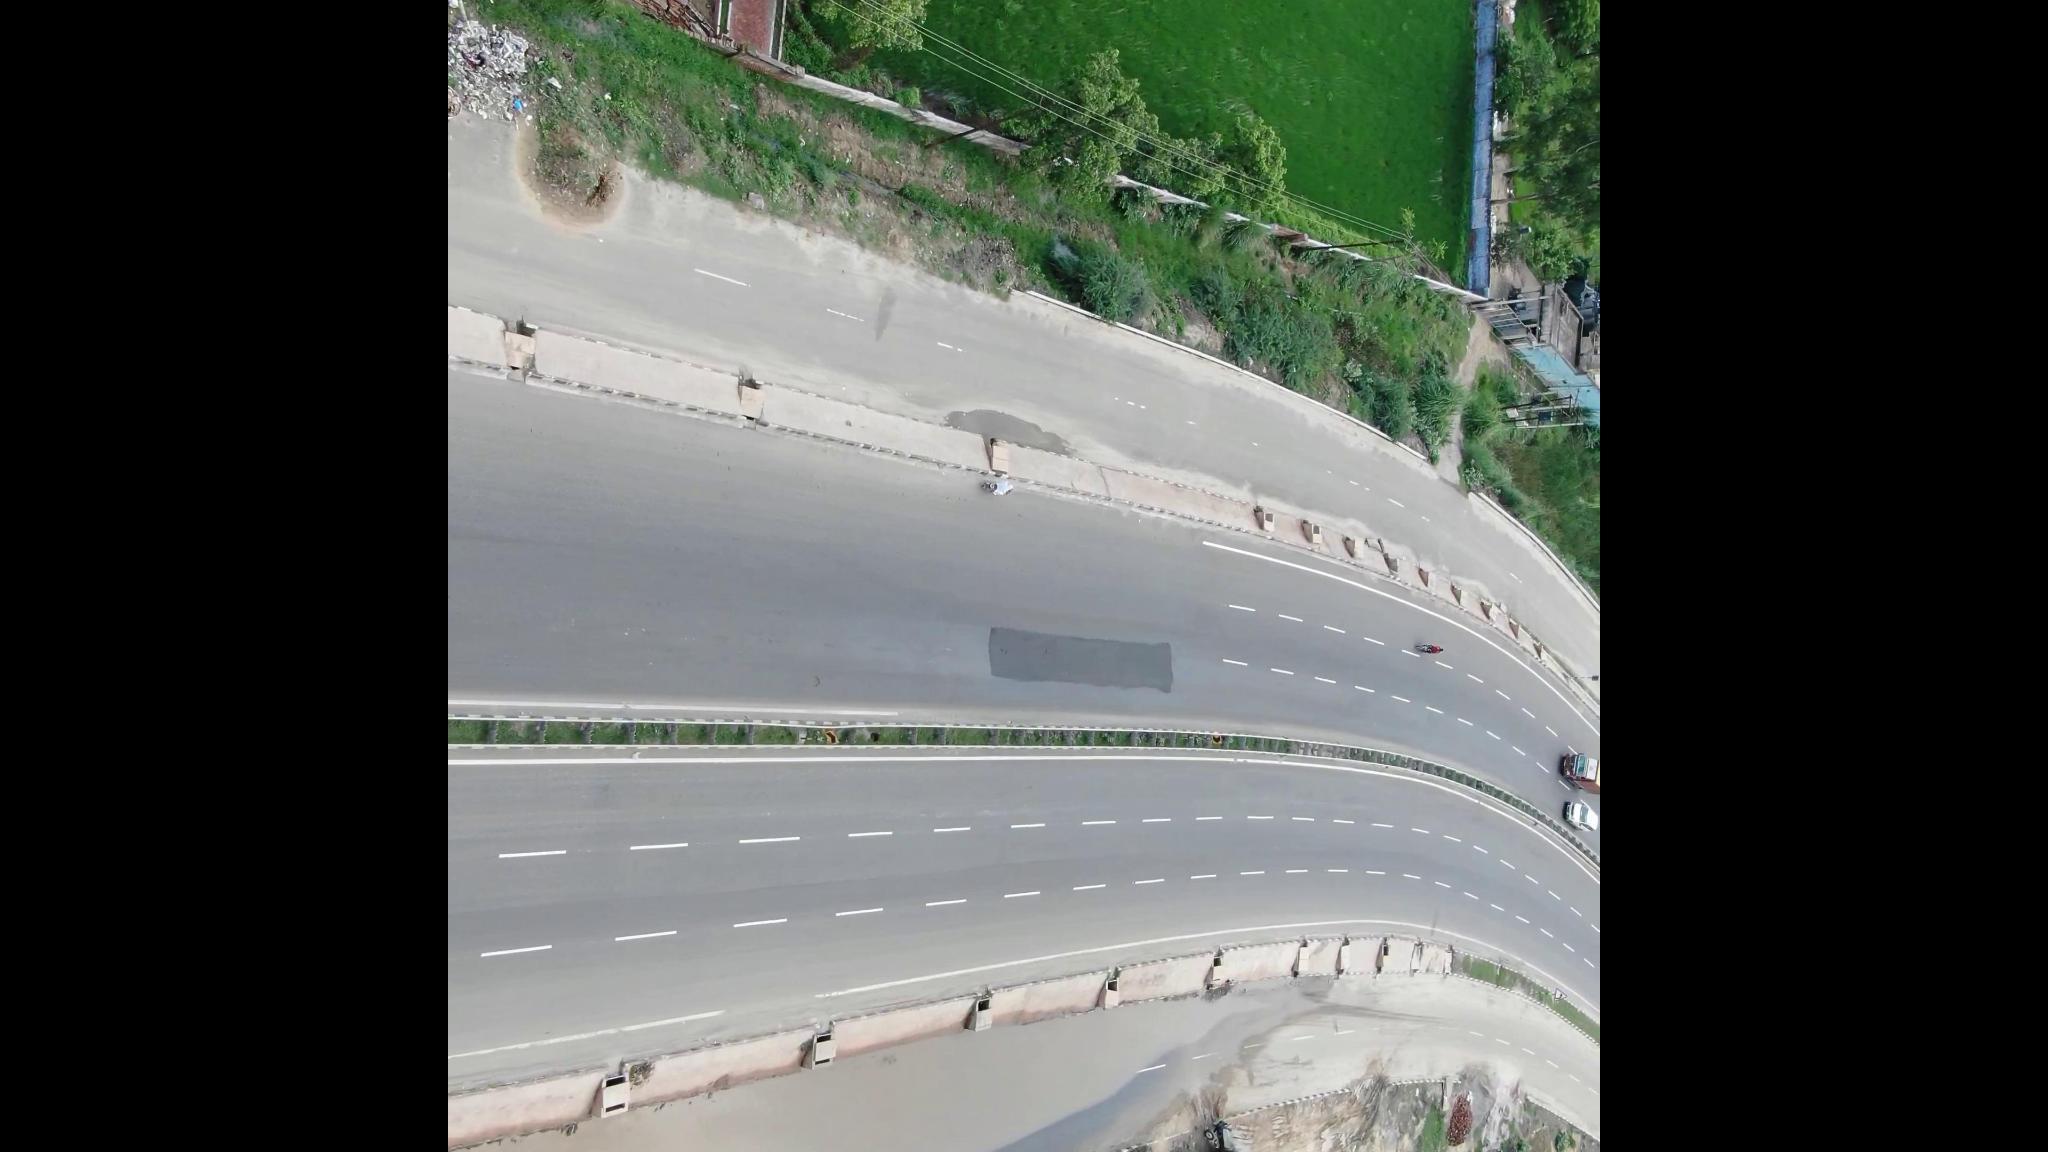Waterlogging: (926, 1011, 1241, 1129), (463, 1073, 930, 1152)
